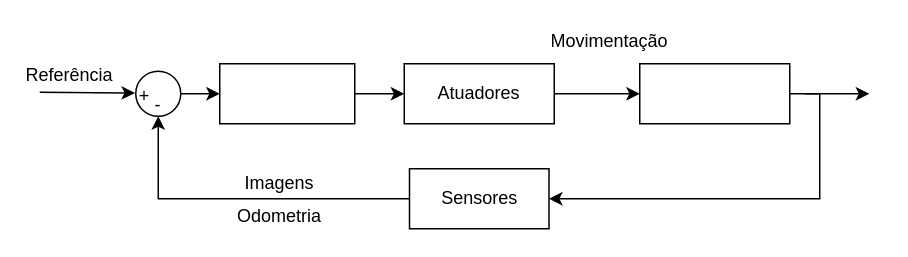
The diagram is 908 pixels wide and 257 high, and some of its shapes have lost their labels. Each missing label, with the centre of its shape:
"Controlador" goes at pixel 286 93.
"Robô / Processo" goes at pixel 714 93.
